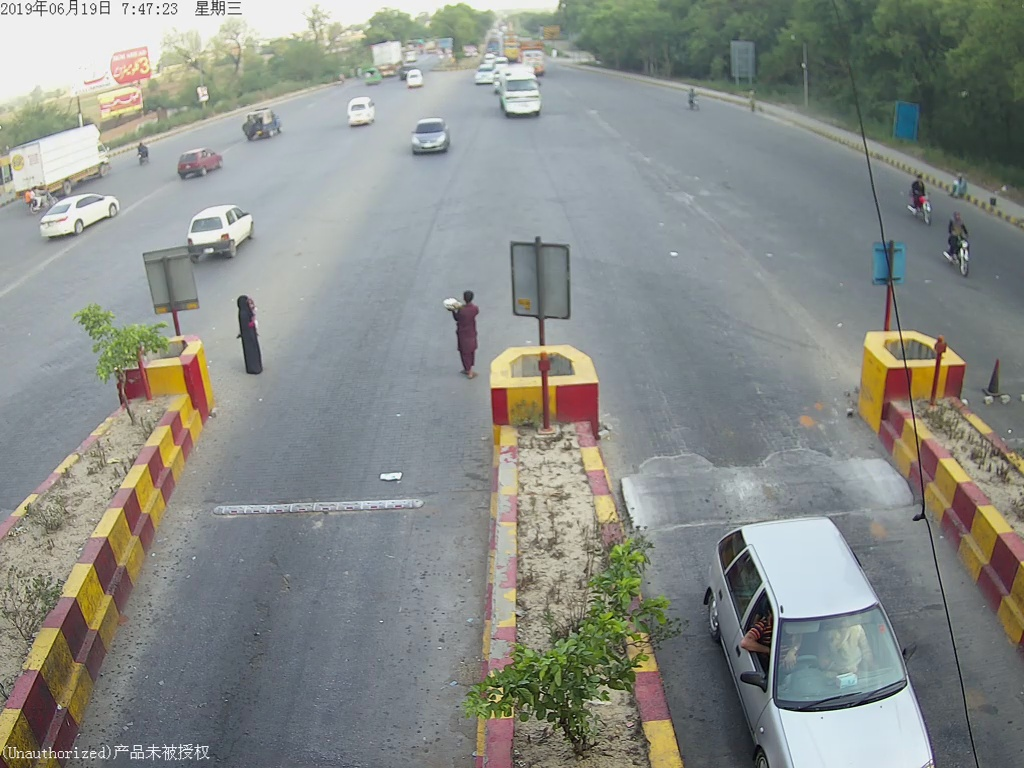Cat-1: (409, 113, 457, 155)
